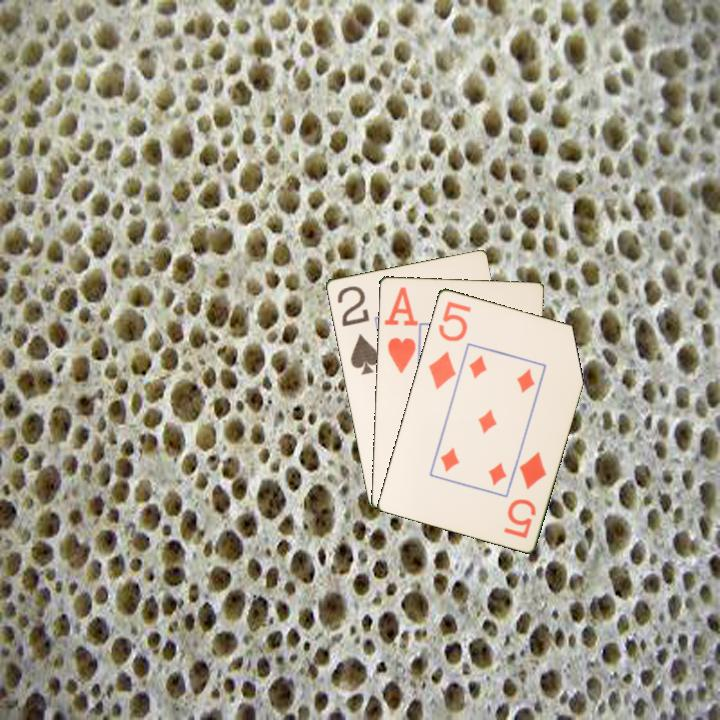2s: (333, 282, 382, 377)
5d: (424, 297, 474, 392), (500, 448, 549, 541)
Ah: (380, 283, 419, 376)
